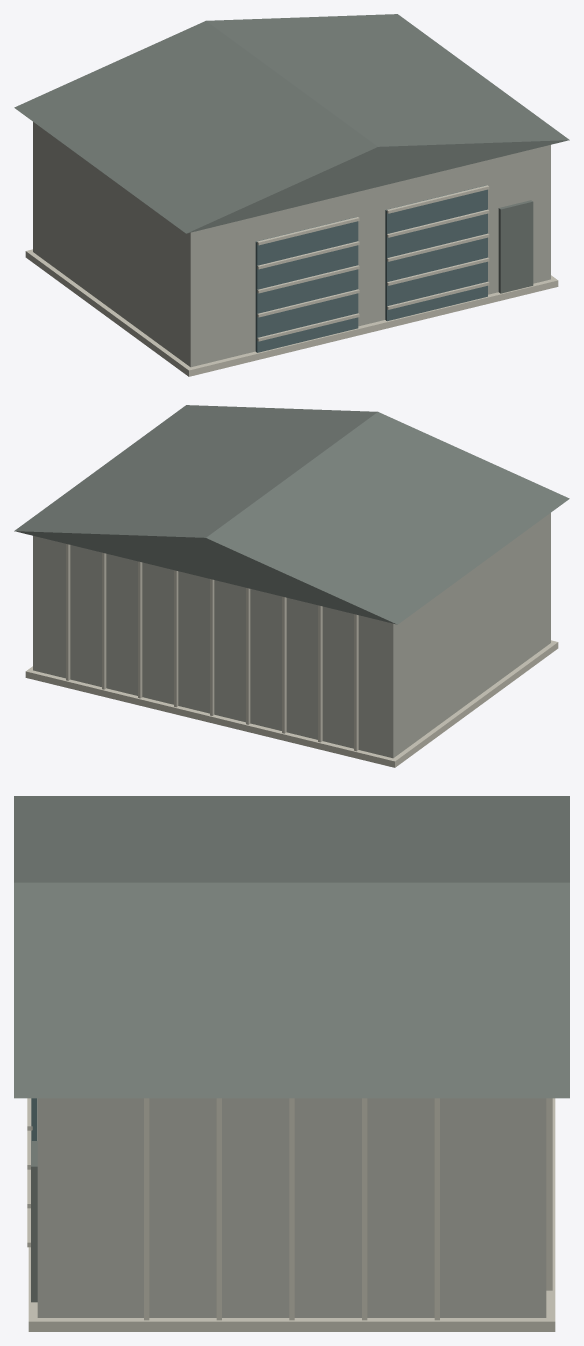
Rendered from maintenance_shed_02.glb.
3 renders of one model, top to bottom at view 1: azimuth 30°, elevation 25°; view 2: azimuth 150°, elevation 25°; view 3: azimuth 270°, elevation 25°, orthographic. The views are drawn at different scales.
Visible parts, largest first — view 1: Maintenance_shed_02; view 2: Maintenance_shed_02; view 3: Maintenance_shed_02.
Part boxes in pixels (<box>): Maintenance_shed_02: <box>14,14,569,376</box>; Maintenance_shed_02: <box>14,405,569,767</box>; Maintenance_shed_02: <box>14,796,569,1331</box>.
Size of the model in its own units: 10.18 by 4.77 by 7.92.
